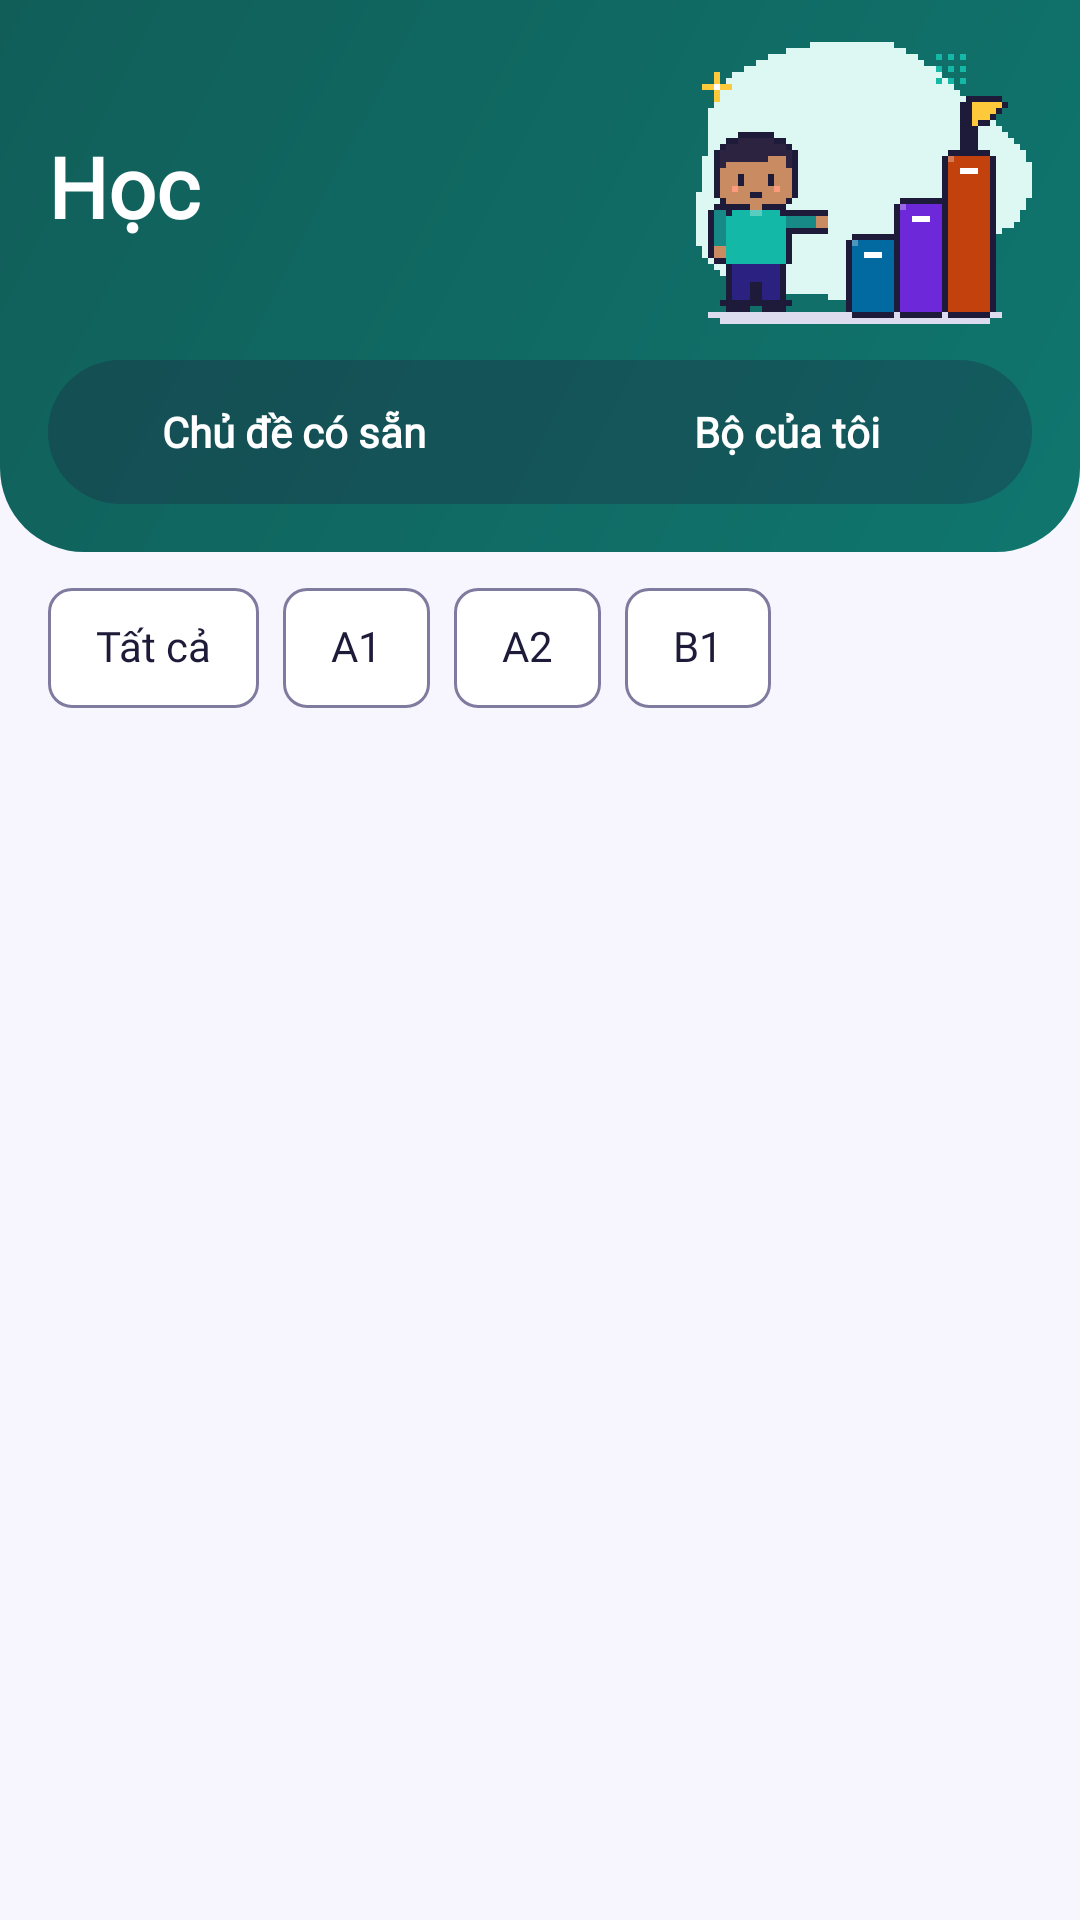

Icon bounding boxes for this 1080×1920 phone screenshot, format {"left": x1, "top": y1, "right": x2, "bottom": y2}:
ill onboarding level: {"left": 696, "top": 42, "right": 1032, "bottom": 324}
